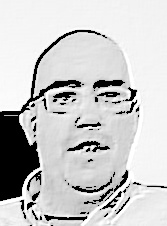nose_M_C: (73, 97, 106, 138)
